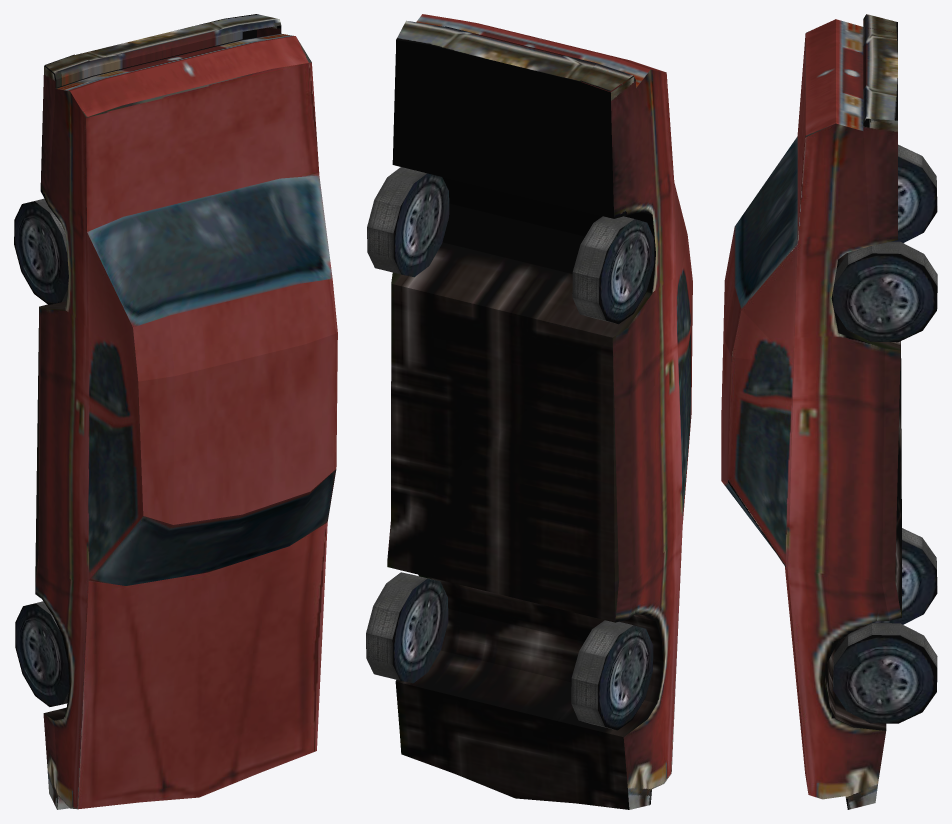
The model's file is carpack_redcar_wtf.obj.
The picture shows the model from 3 angles, left to right: view 1: azimuth 30°, elevation 25°; view 2: azimuth 150°, elevation 25°; view 3: azimuth 270°, elevation 25°; orthographic projection. The views are drawn at different scales.
Parts seen in each view (by area): view 1: group1; view 2: group1; view 3: group1.
Part boxes in pixels (bbox=[...]): group1: bbox=[14, 14, 337, 809]; group1: bbox=[366, 14, 692, 809]; group1: bbox=[721, 14, 937, 809].
Bounding box in the file's own units: 221 × 660 × 183.
